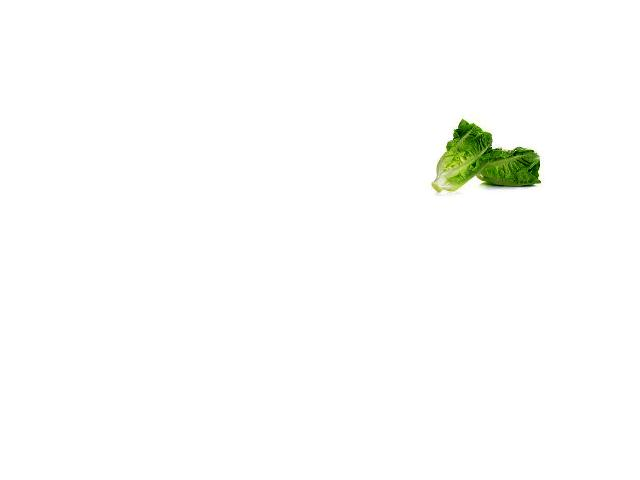lettuce: (430, 122, 500, 197)
